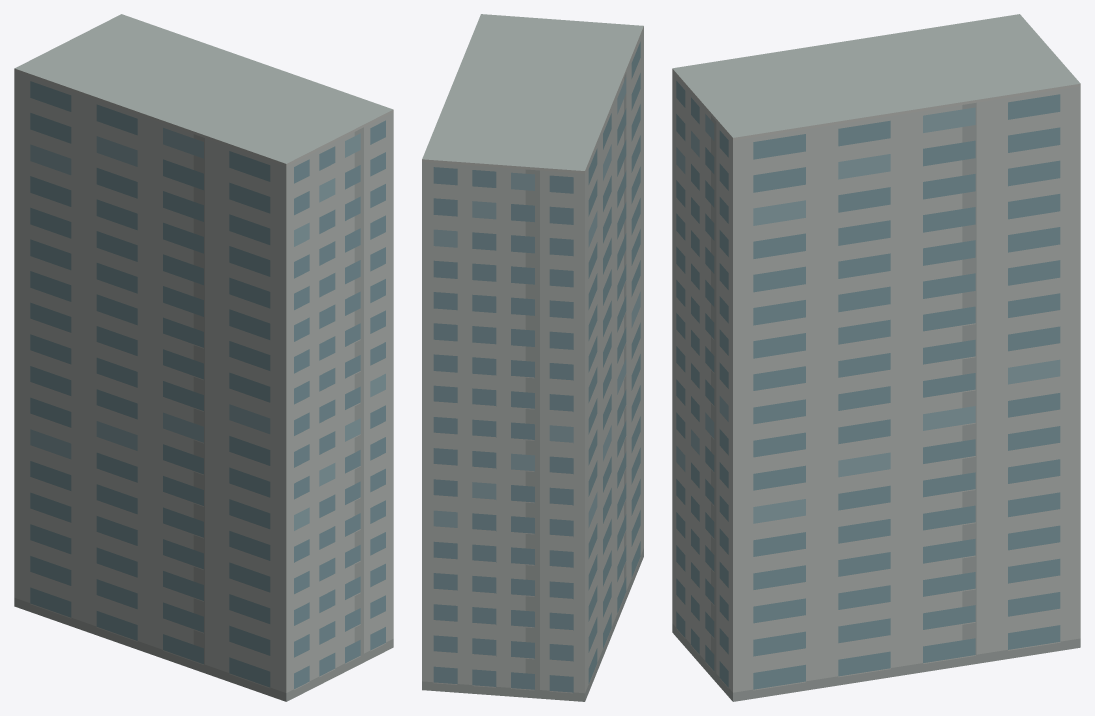
File: residential-39dfaeca-f4c8-479d-b37e-196de931378c.glb
The picture shows the model from 3 angles, left to right: view 1: azimuth 30°, elevation 25°; view 2: azimuth 150°, elevation 25°; view 3: azimuth 270°, elevation 25°; orthographic projection. The views are drawn at different scales.
Visible parts, largest first — view 1: residential-39dfaeca-f4c8-479d-b37e-196de931378c.tmp; view 2: residential-39dfaeca-f4c8-479d-b37e-196de931378c.tmp; view 3: residential-39dfaeca-f4c8-479d-b37e-196de931378c.tmp.
Part boxes in pixels (x1=…): residential-39dfaeca-f4c8-479d-b37e-196de931378c.tmp: x1=14, y1=14, x2=393, y2=701; residential-39dfaeca-f4c8-479d-b37e-196de931378c.tmp: x1=422, y1=14, x2=643, y2=701; residential-39dfaeca-f4c8-479d-b37e-196de931378c.tmp: x1=672, y1=14, x2=1080, y2=701.
Size of the model in its own units: 23.1 by 49 by 32.17.
